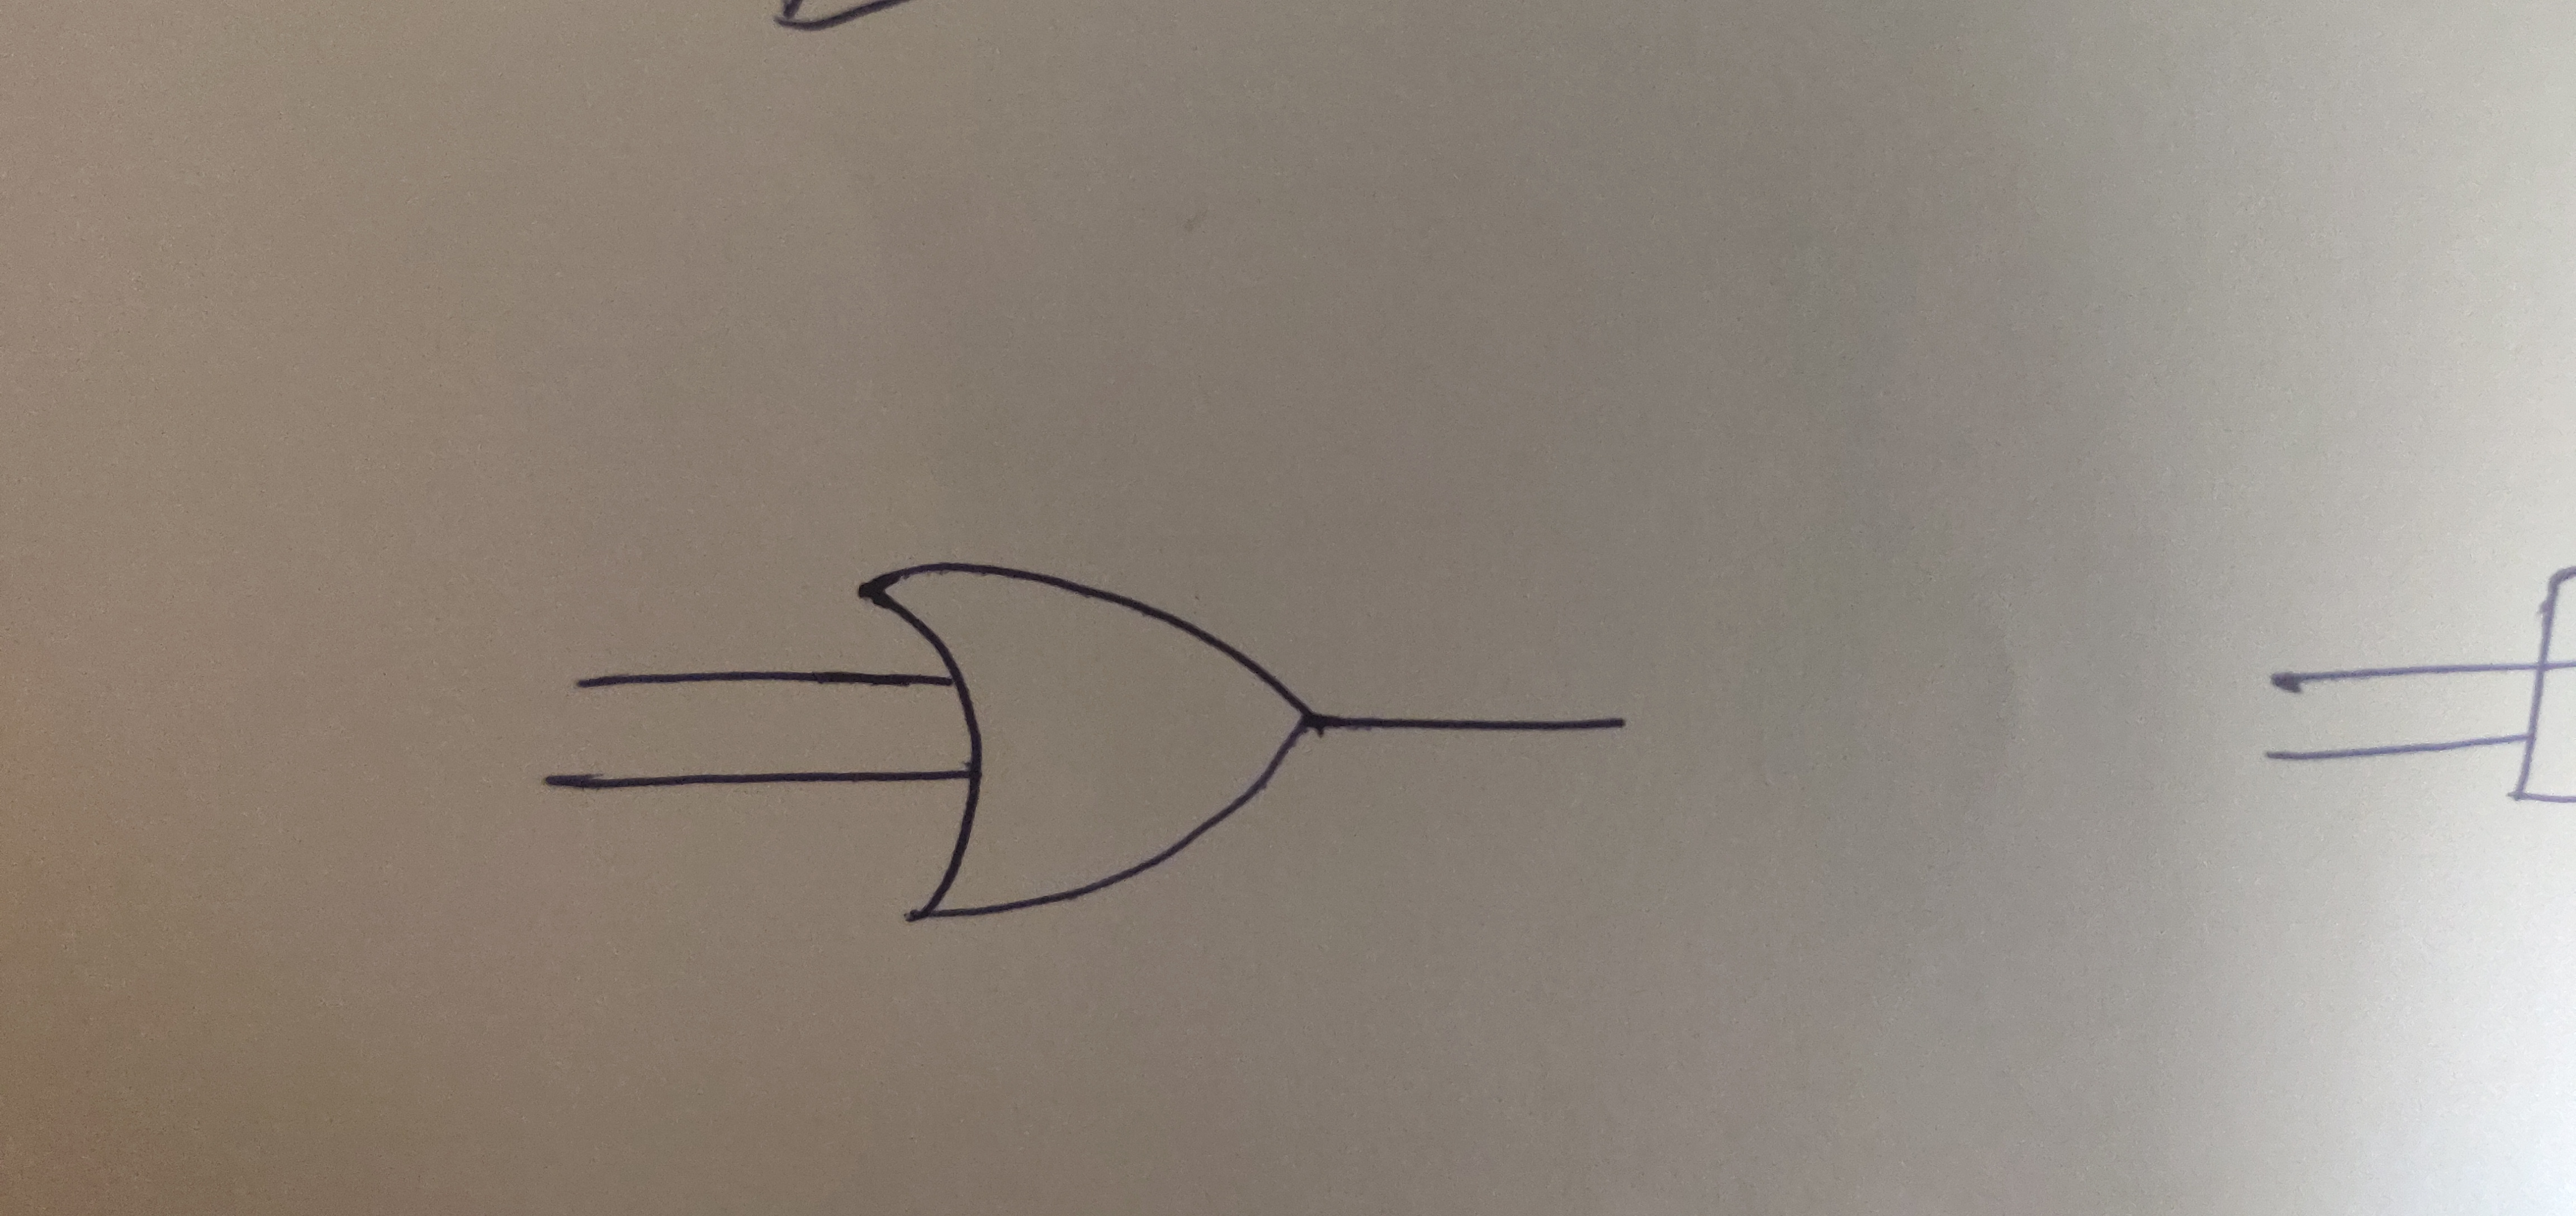or: (798, 509, 1390, 983)
